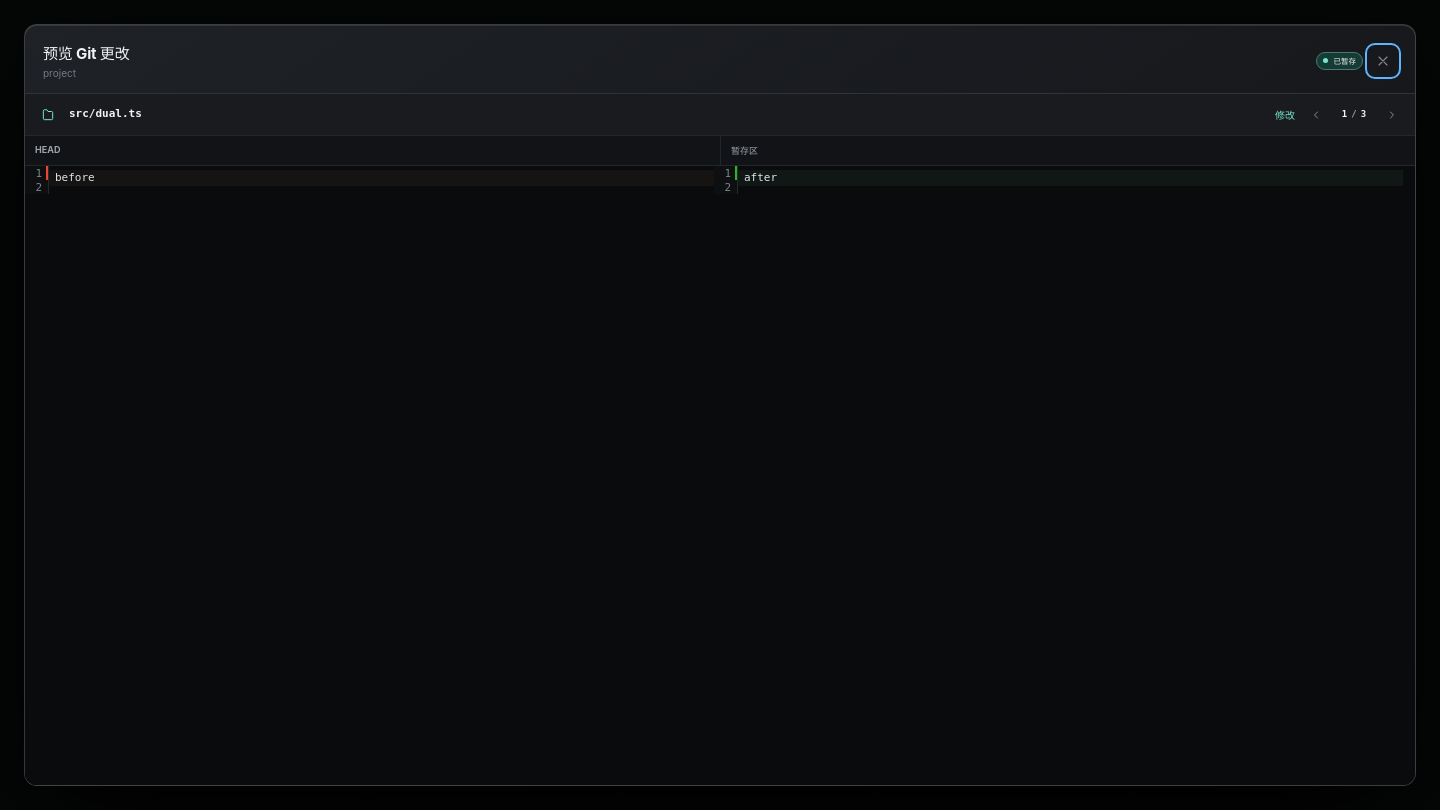
Test: GitChangePreview › keeps staged and worktree entries distinct and navigates without a layout rail
Expected: the text "HEAD" is shown, [35, 144, 60, 155]
Expected: the text "暂存区" is shown, [720, 136, 1415, 165]
Click the button named "展开更改文件". click: (48, 114)
box: [35, 102, 61, 128]
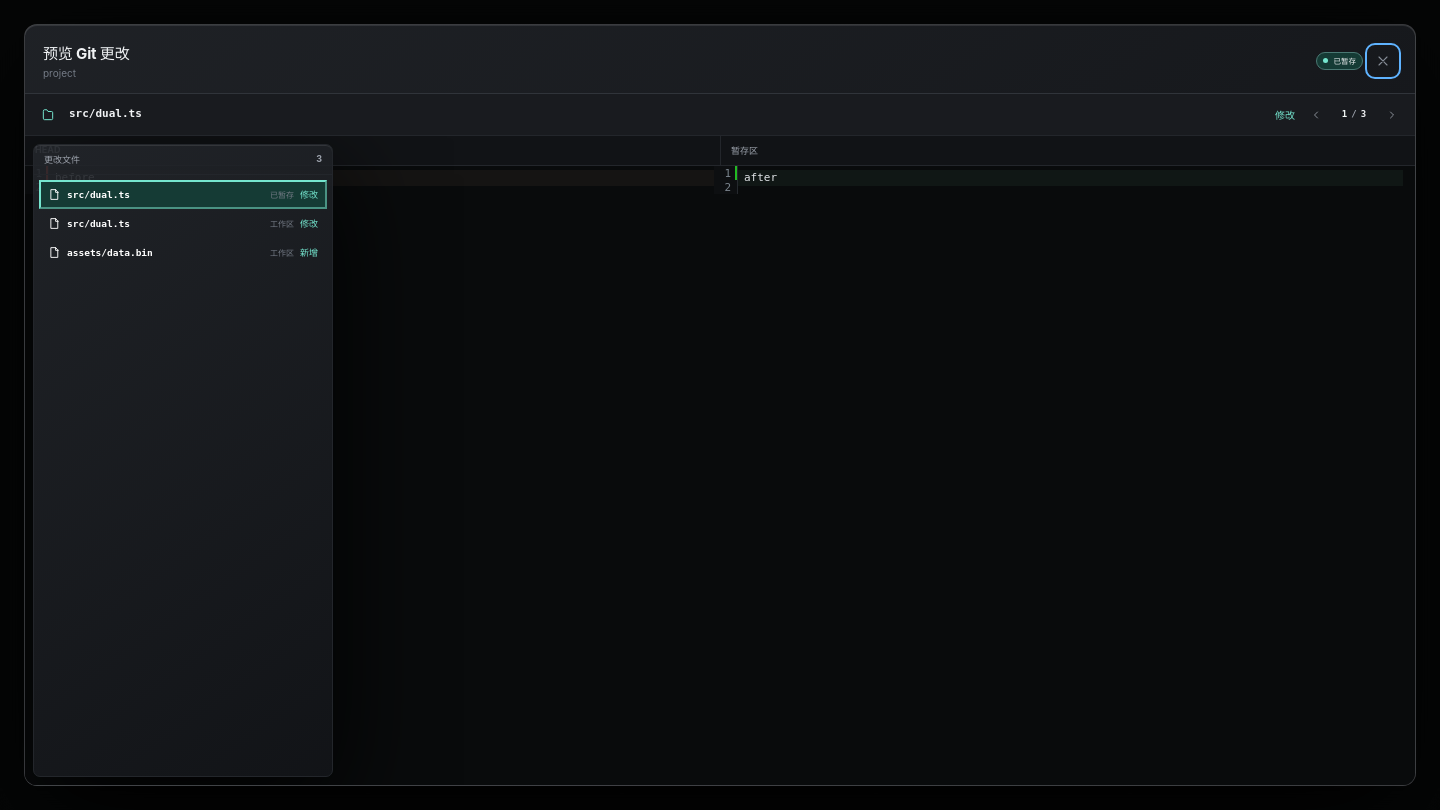
Expected: the text named "Git 状态：修改" reads "修改", [1275, 109, 1295, 121]
Click the button "src/dual.ts 工作区 修改". click: (98, 223)
box: [39, 209, 327, 238]
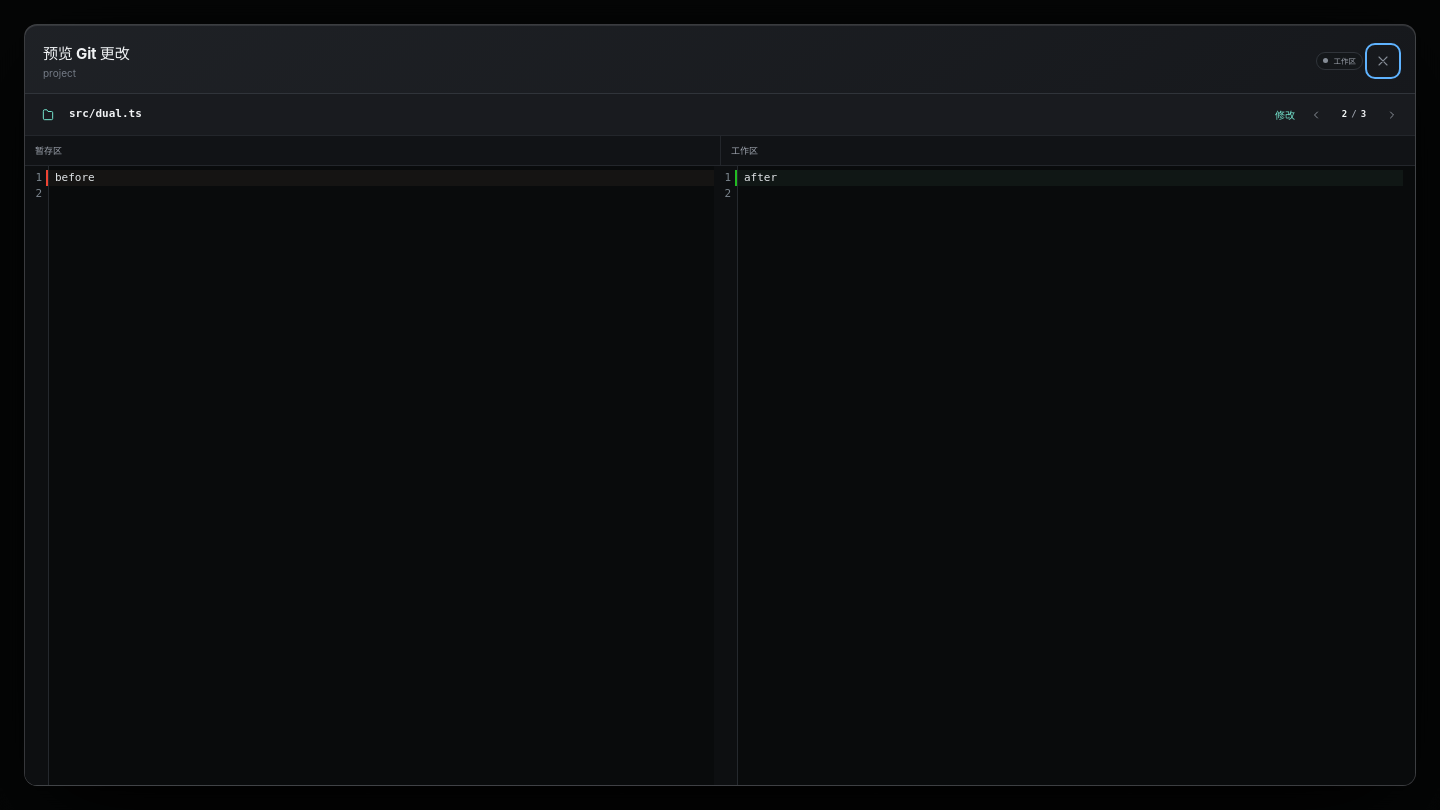
Expected: the text "暂存区" is shown, [35, 145, 62, 156]
Expected: the text "工作区" is shown, [1316, 52, 1363, 70]
